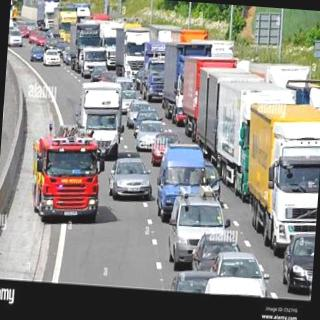Fire_truck: (28, 120, 118, 242)
